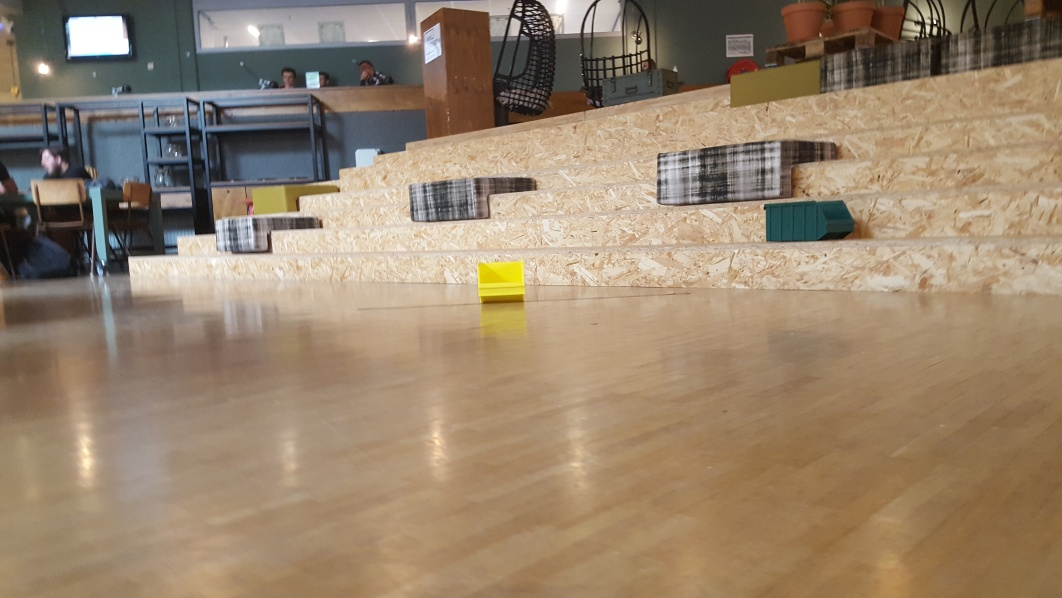tray: (755, 199, 858, 241), (470, 260, 528, 300)
